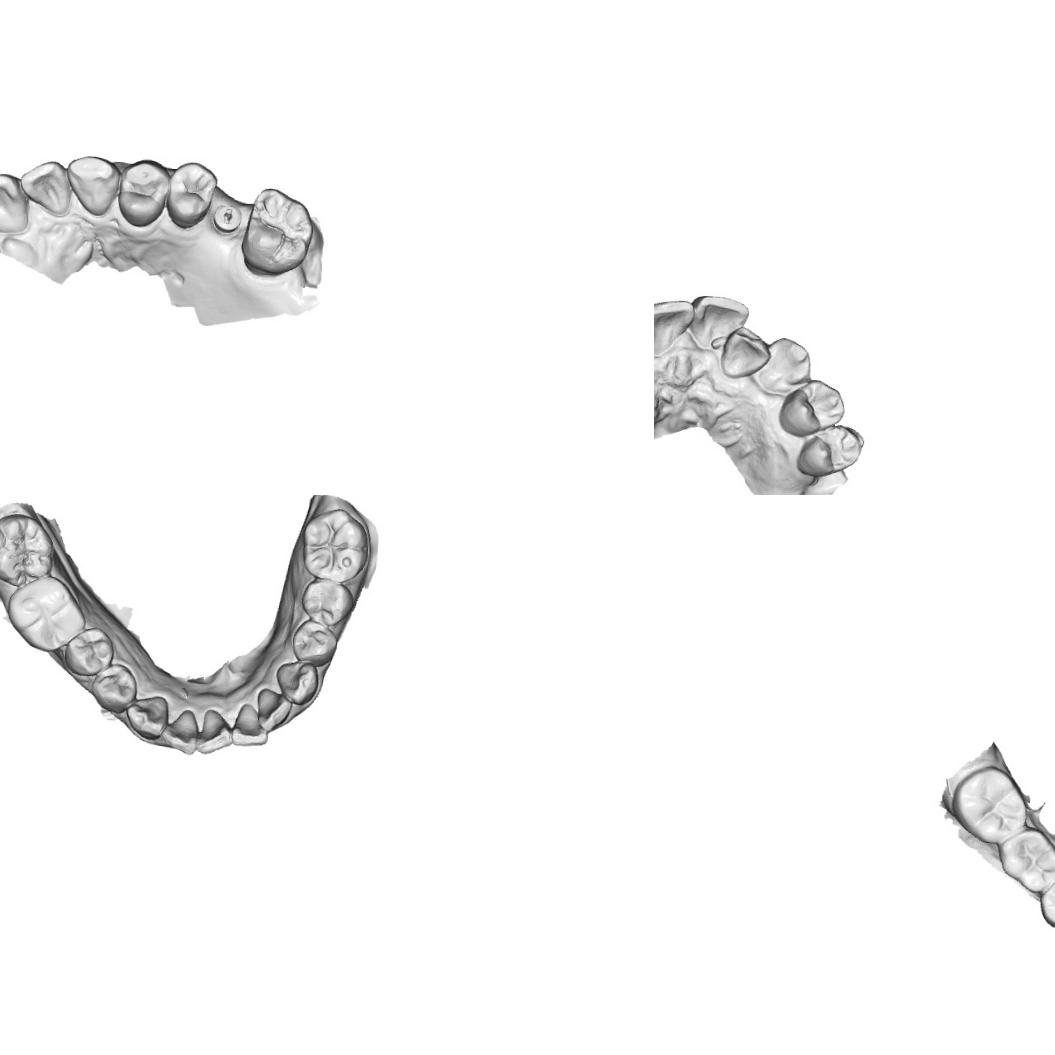canine: (63, 152, 121, 218), (757, 333, 814, 397), (271, 658, 320, 706), (123, 692, 169, 740)
implant: (210, 201, 243, 234)
incisor: (688, 292, 750, 350), (17, 156, 74, 218), (717, 324, 772, 382), (654, 293, 695, 355), (0, 169, 32, 235), (160, 705, 200, 757), (229, 700, 271, 748), (196, 706, 234, 756), (254, 686, 293, 734)
molar: (2, 570, 90, 655), (238, 184, 316, 278), (949, 762, 1030, 846), (298, 504, 372, 586), (0, 510, 60, 589), (994, 824, 1055, 894)
premolar: (792, 421, 864, 482), (162, 158, 220, 231), (780, 376, 848, 436), (116, 156, 170, 230), (60, 623, 116, 681), (296, 575, 356, 628), (88, 658, 138, 716), (288, 616, 339, 667), (1036, 869, 1055, 931)
